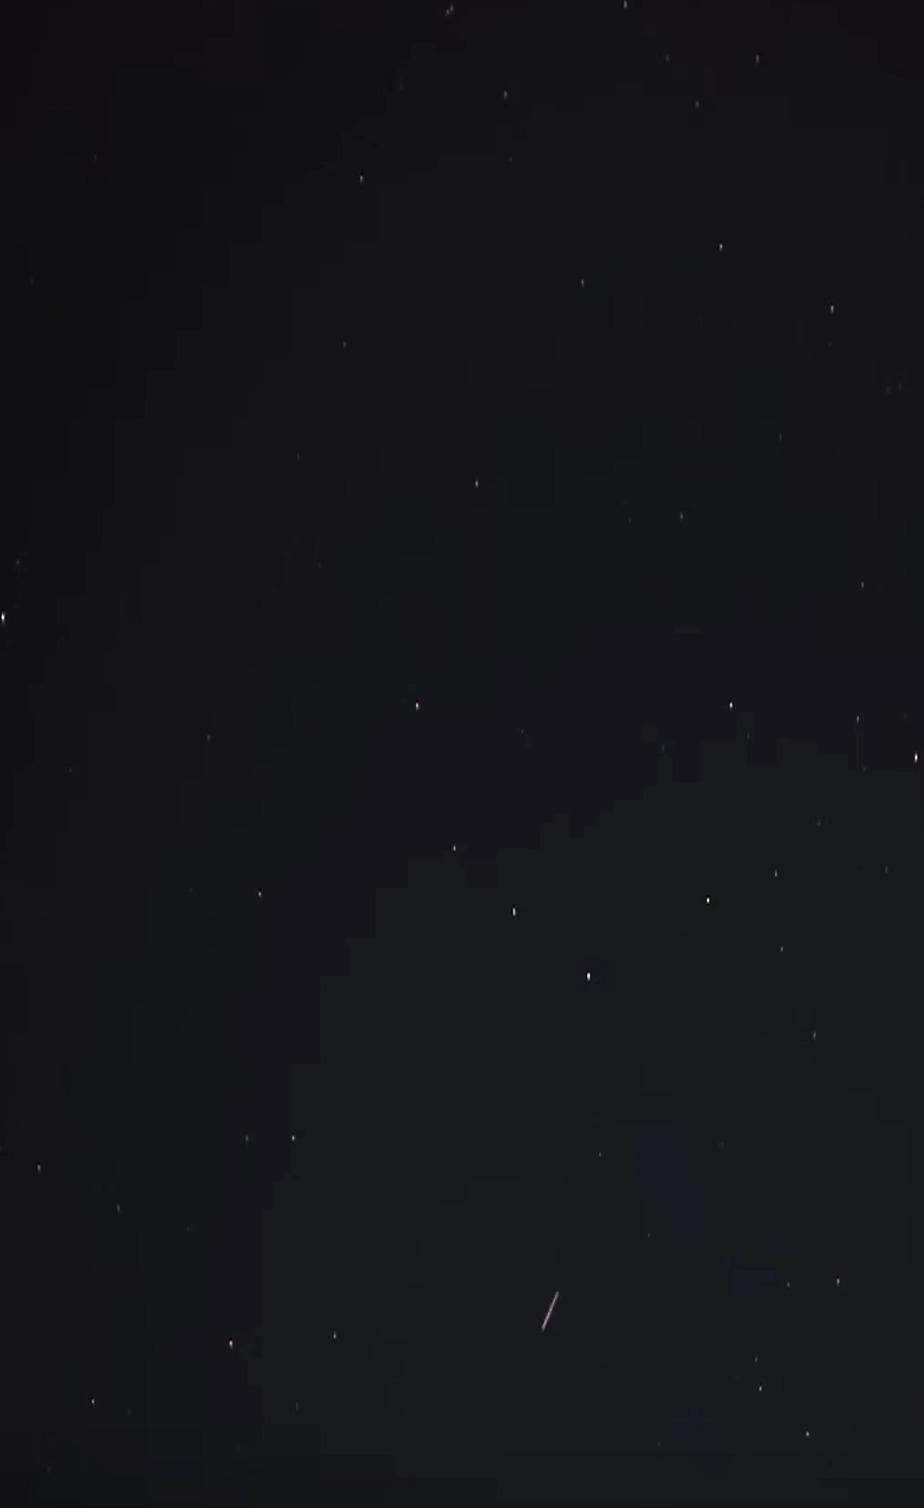meteorite: (510, 1277, 592, 1344)
